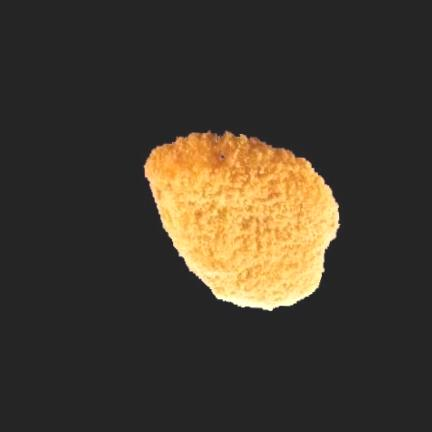chicken: (145, 133, 339, 310)
